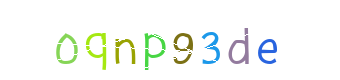0: (59, 0, 139, 80)
3: (142, 0, 222, 80)
9: (130, 0, 210, 80)
D: (199, 0, 279, 80)
E: (200, 0, 280, 80)
N: (75, 0, 155, 80)
P: (118, 0, 198, 80)
Q: (74, 0, 154, 80)
